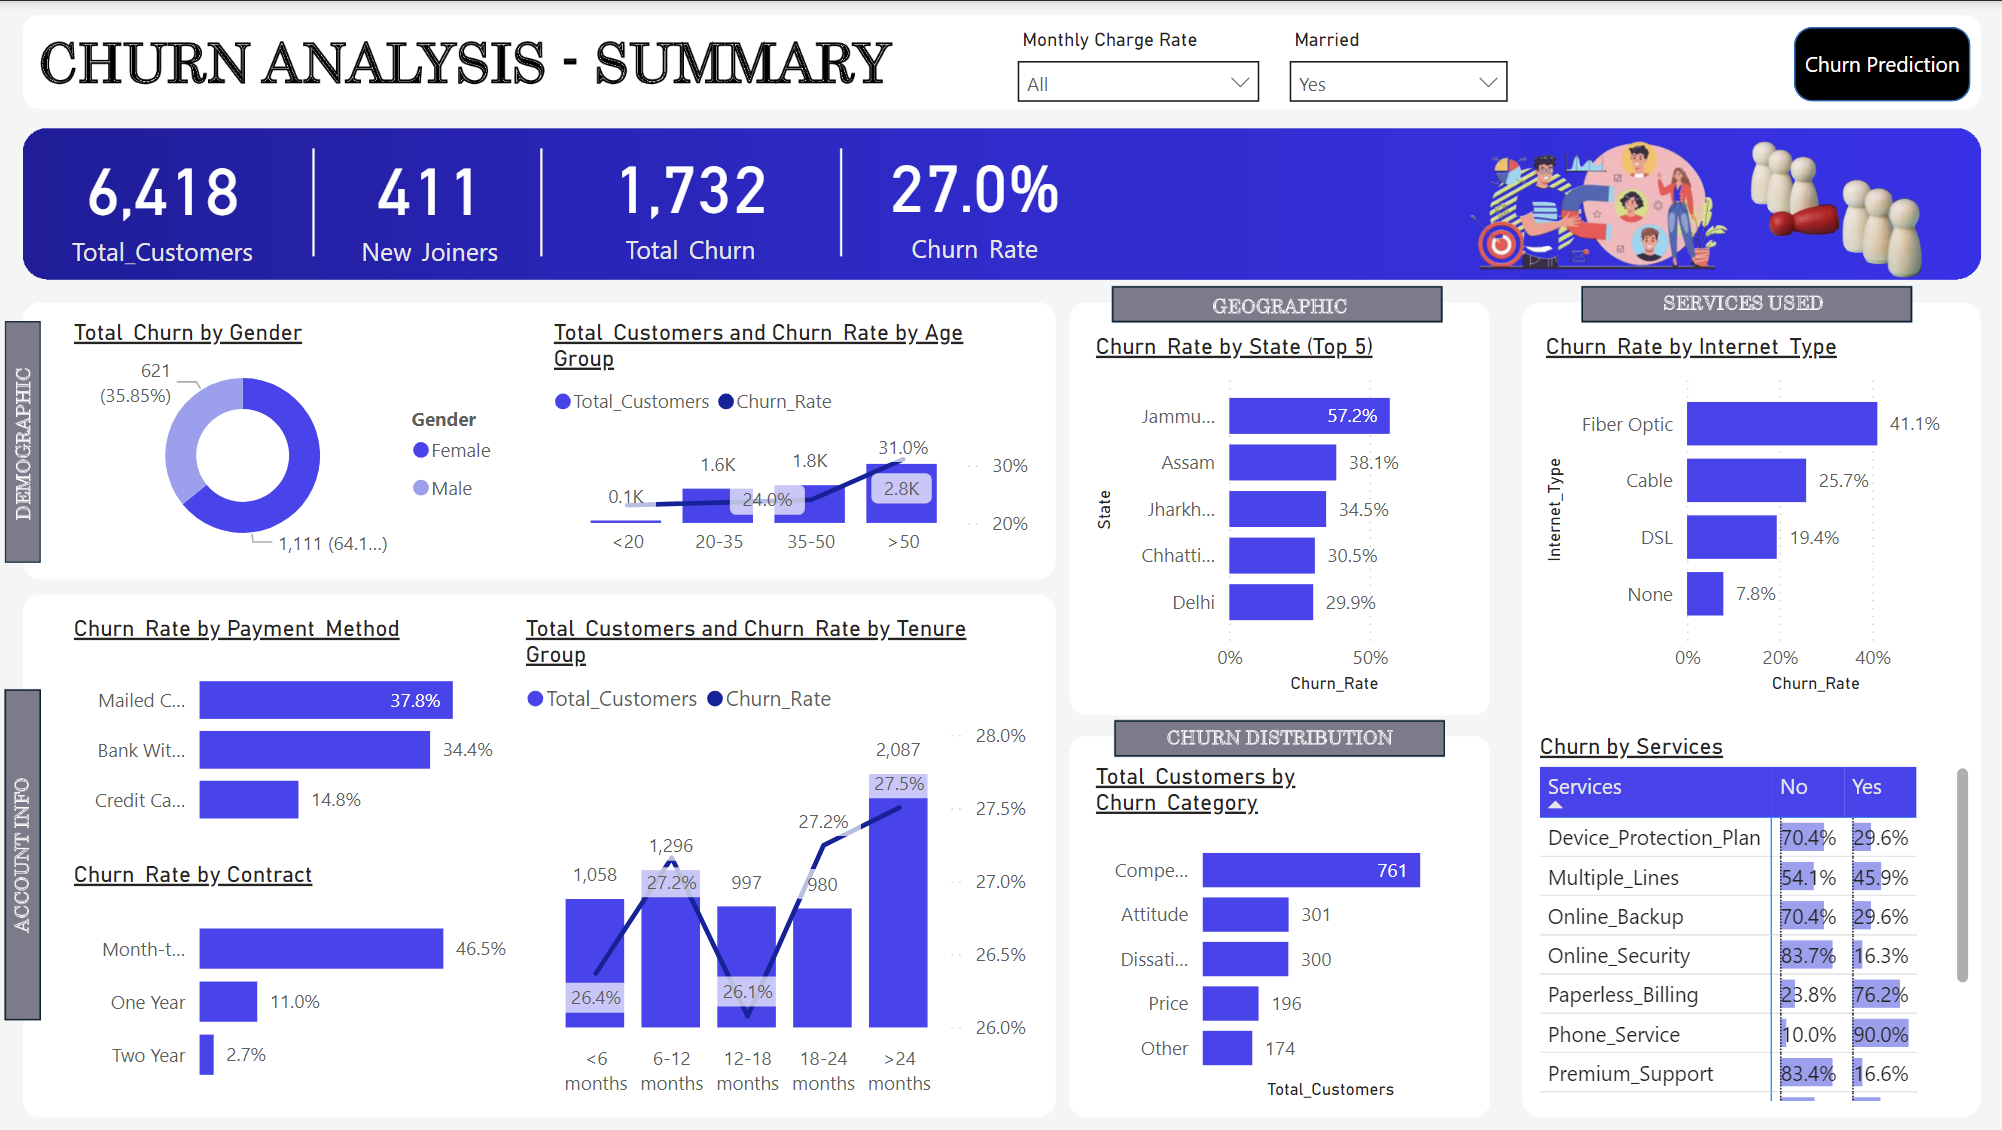

The page's visual inventory and layout, read from the dashboard file:
{"tool":"powerbi","page":{"name":"Summary","canvas":[1280,720],"ordinal":0},"visuals":[{"type":"card","fields":{"Values":["tbl_Measure.New_Joiners"]},"box":[201.2,83.8,147.5,87.5],"z":0},{"type":"card","fields":{"Values":["tbl_Measure.Total_Customers"]},"box":[22.5,82.5,163.8,90],"z":1000},{"type":"card","fields":{"Values":["tbl_Measure.Total_Churn"]},"box":[362.5,82.5,158.8,87.5],"z":2000},{"type":"card","fields":{"Values":["tbl_Measure.Churn_Rate"]},"box":[551.2,82.5,143.8,86.2],"z":3000},{"type":"donutChart","fields":{"Category":["prod_Churn.Gender"],"Y":["tbl_Measure.Total_Churn"]},"box":[43.8,202.5,286.2,157.5],"z":4000},{"type":"lineClusteredColumnComboChart","fields":{"Category":["Mapping_AgeGrp.Age Group"],"Y2":["tbl_Measure.Churn_Rate"],"Y":["tbl_Measure.Total_Customers"]},"box":[348.8,202.5,312.5,160],"z":5000},{"type":"barChart","fields":{"Category":["prod_Churn.Payment_Method"],"Y":["tbl_Measure.Churn_Rate"]},"box":[43.8,391.2,286.2,148.8],"z":6000},{"type":"barChart","fields":{"Category":["prod_Churn.Contract"],"Y":["tbl_Measure.Churn_Rate"]},"box":[43.8,548.8,286.2,156.2],"z":7000},{"type":"lineClusteredColumnComboChart","fields":{"Category":["Mapping_TenureGrp.Tenure Group"],"Y2":["tbl_Measure.Churn_Rate"],"Y":["tbl_Measure.Total_Customers"]},"box":[331.2,391.2,328.8,313.8],"z":8000},{"type":"clusteredBarChart","title":"Churn_Rate by State (Top 5)","fields":{"Category":["prod_Churn.State"],"Y":["tbl_Measure.Churn_Rate"]},"box":[695,211.2,241.2,233.8],"z":9000},{"type":"clusteredBarChart","fields":{"Category":["prod_Churn.Churn_Category"],"Y":["tbl_Measure.Total_Customers"]},"box":[695,486.2,241.2,218.8],"z":10000},{"type":"clusteredBarChart","fields":{"Y":["tbl_Measure.Churn_Rate"],"Category":["prod_Churn.Internet_Type"]},"box":[981.2,211.2,276.2,233.8],"z":11000},{"type":"pivotTable","title":"Churn by Services","fields":{"Rows":["prod_Services.Services"],"Columns":["prod_Services.Status"],"Values":["Sum(prod_Services.Customer Status)"]},"box":[977.5,466.2,283.8,238.8],"z":12000},{"type":"slicer","fields":{"Values":["prod_Services.Monthly Charge Rate "]},"box":[640,12.5,173.8,57.5],"z":13000},{"type":"slicer","fields":{"Values":["prod_Services.Married"]},"box":[813.8,12.5,158.8,70],"z":14000},{"type":"shape","box":[1145,16.2,112.5,47.5],"z":14001}]}

Visuals, with their boxes in screenshot pixels (x1, y1, x2, y2), scaled from the page's 1280x720 canvas onto the 2002x1130 screenshot:
card - tbl_Measure.New_Joiners: 315:132:545:269
card - tbl_Measure.Total_Customers: 35:129:291:271
card - tbl_Measure.Total_Churn: 567:129:815:267
card - tbl_Measure.Churn_Rate: 862:129:1087:265
donutChart - prod_Churn.Gender x tbl_Measure.Total_Churn: 69:318:516:565
lineClusteredColumnComboChart - Mapping_AgeGrp.Age Group x tbl_Measure.Churn_Rate: 546:318:1034:569
barChart - prod_Churn.Payment_Method x tbl_Measure.Churn_Rate: 69:614:516:848
barChart - prod_Churn.Contract x tbl_Measure.Churn_Rate: 69:861:516:1106
lineClusteredColumnComboChart - Mapping_TenureGrp.Tenure Group x tbl_Measure.Churn_Rate: 518:614:1032:1106
"Churn_Rate by State (Top 5)" clusteredBarChart: 1087:331:1464:698
clusteredBarChart - prod_Churn.Churn_Category x tbl_Measure.Total_Customers: 1087:763:1464:1106
clusteredBarChart - tbl_Measure.Churn_Rate x prod_Churn.Internet_Type: 1535:331:1967:698
"Churn by Services" pivotTable: 1529:732:1973:1106
slicer - prod_Services.Monthly Charge Rate : 1001:20:1273:110
slicer - prod_Services.Married: 1273:20:1521:129
shape: 1791:25:1967:100
